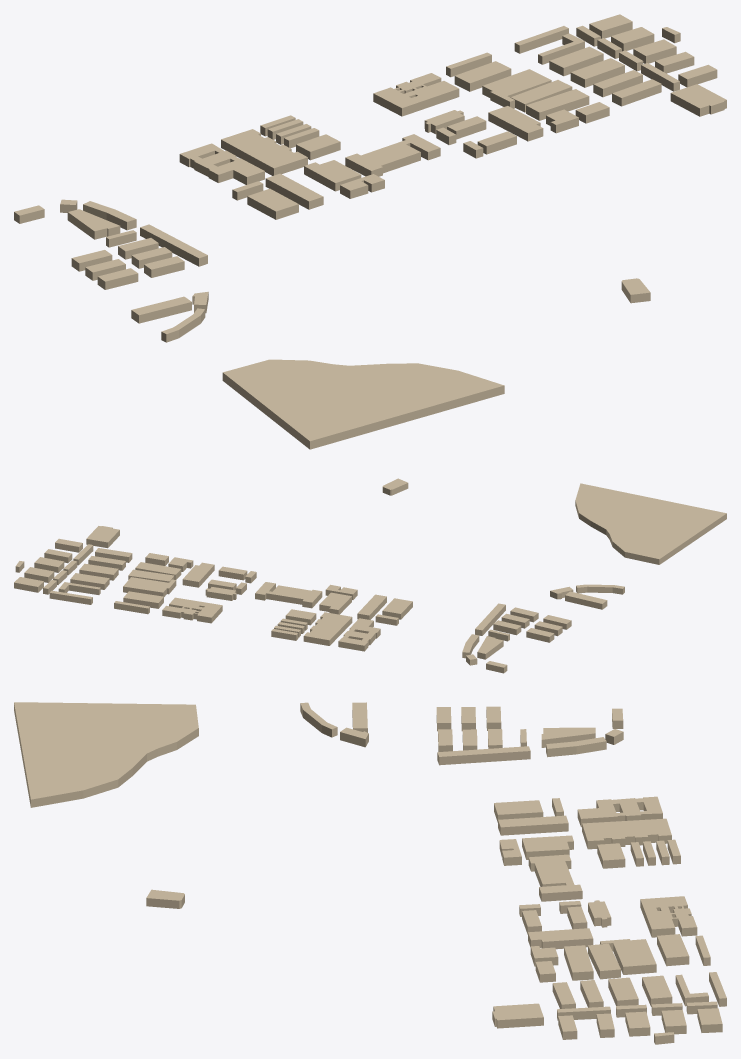
Rendered from -20_28-estimated-coarse.glb.
3 renders of one model, top to bottom at view 1: azimuth 30°, elevation 25°; view 2: azimuth 150°, elevation 25°; view 3: azimuth 270°, elevation 25°, orthographic. The views are drawn at different scales.
Bounding box in the file's own units: 1042 × 12 × 939.
